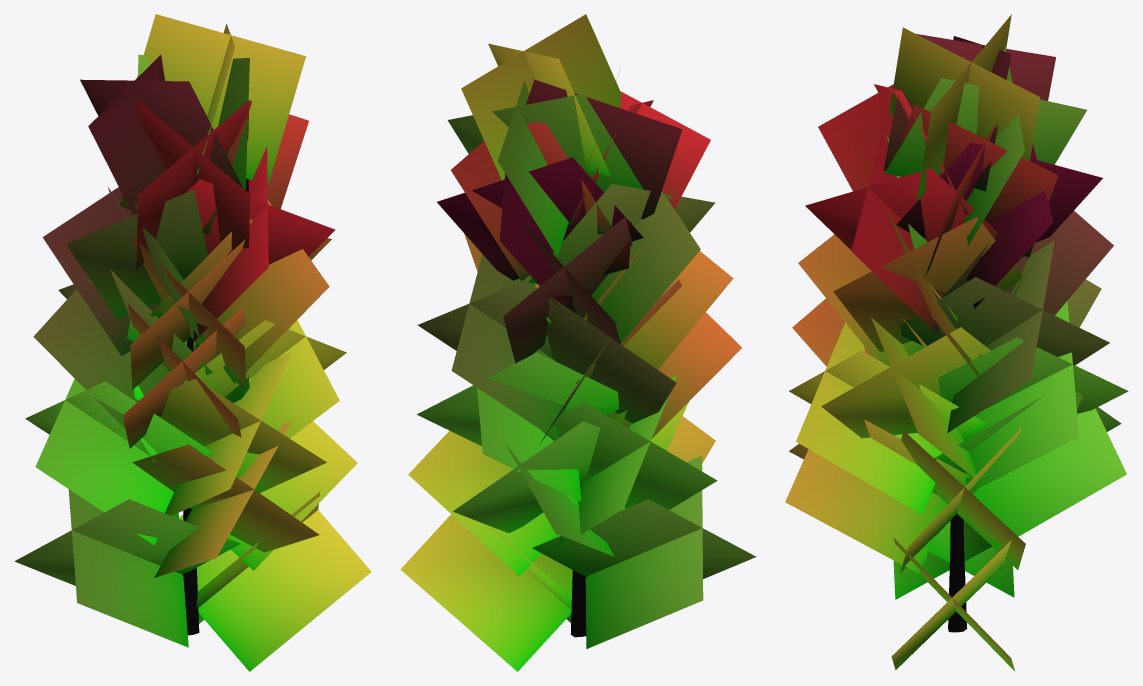
The model's file is Tree_9.fbx.
3 views of the same model, side by side, from view 1: azimuth 30°, elevation 25°; view 2: azimuth 150°, elevation 25°; view 3: azimuth 270°, elevation 25° (orthographic). The views are drawn at different scales.
Parts seen in each view (by area): view 1: Tree_9; view 2: Tree_9; view 3: Tree_9.
Boxes of the visible parts, left/top/right/bottom form: Tree_9: left=14, top=14, right=371, bottom=671; Tree_9: left=400, top=14, right=756, bottom=671; Tree_9: left=785, top=14, right=1128, bottom=670.
Size of the model in its own units: 448 by 883 by 431.
